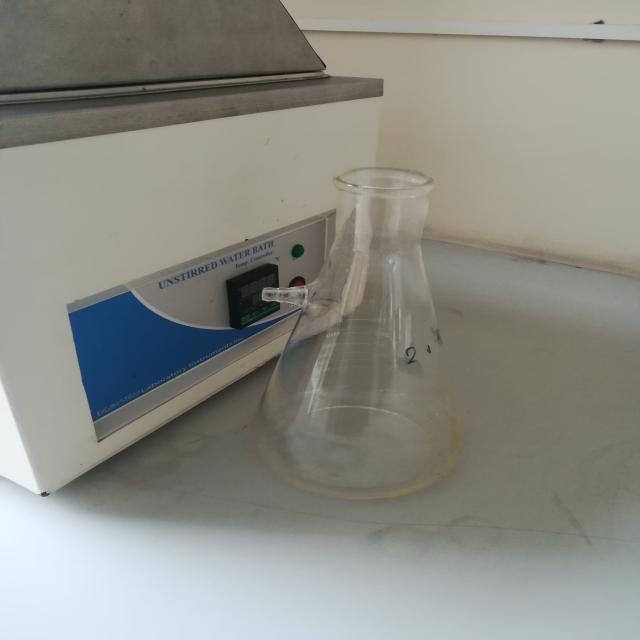Conical_Flask: (231, 139, 514, 523)
